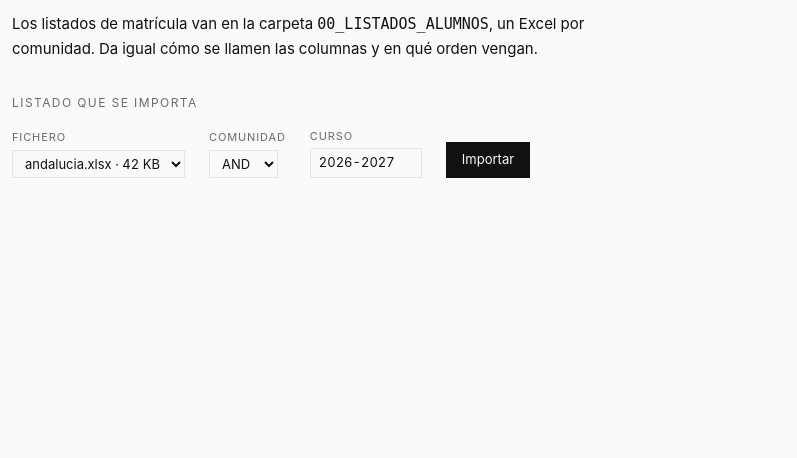
Test: Alumnos › las filas sin registrar se identifican por su número de fila
Click the button "Importar": (488, 160) [446,142,530,178]
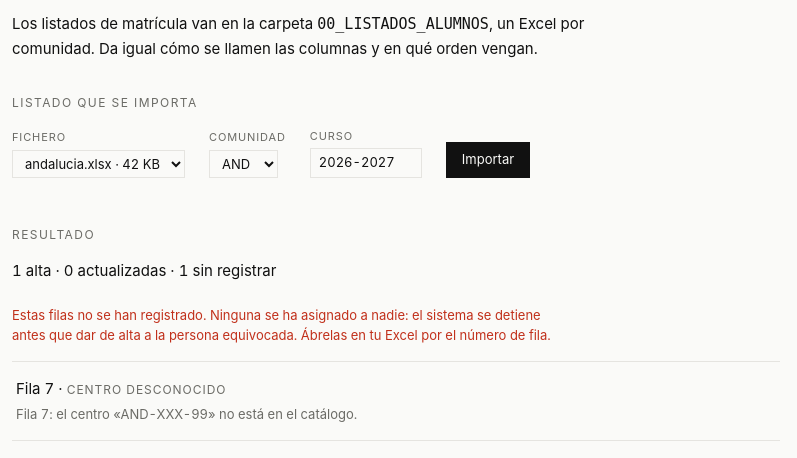
Now the text "Fila 7 · centro desconocido" is shown 2 times, box [16,379,226,398]; [16,406,357,422]
Now the text "centro desconocido" is shown, box [67,382,226,397]
